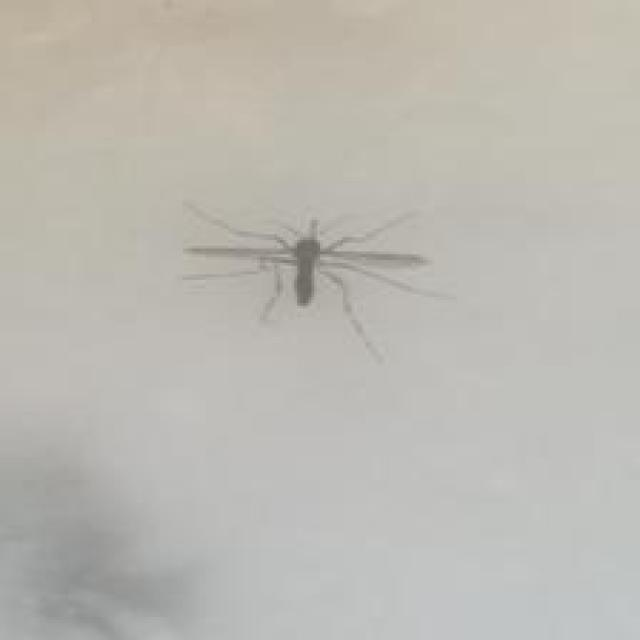Aedes albopictus: (178, 197, 456, 363)
